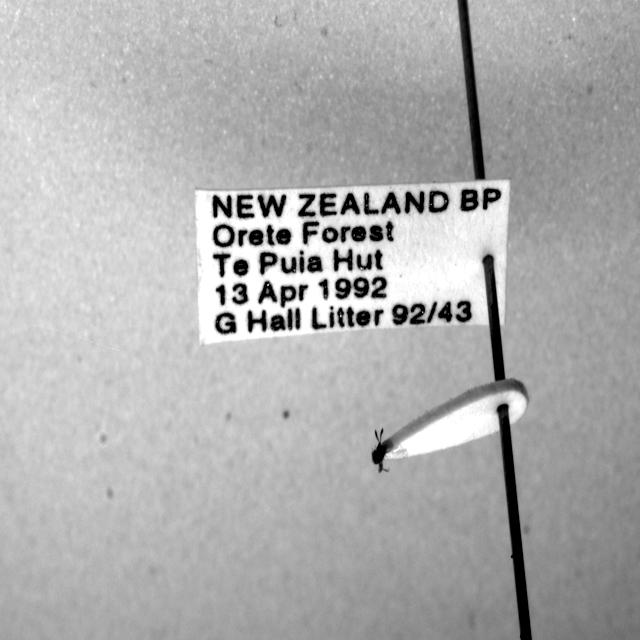typed_label: (196, 180, 510, 343)
